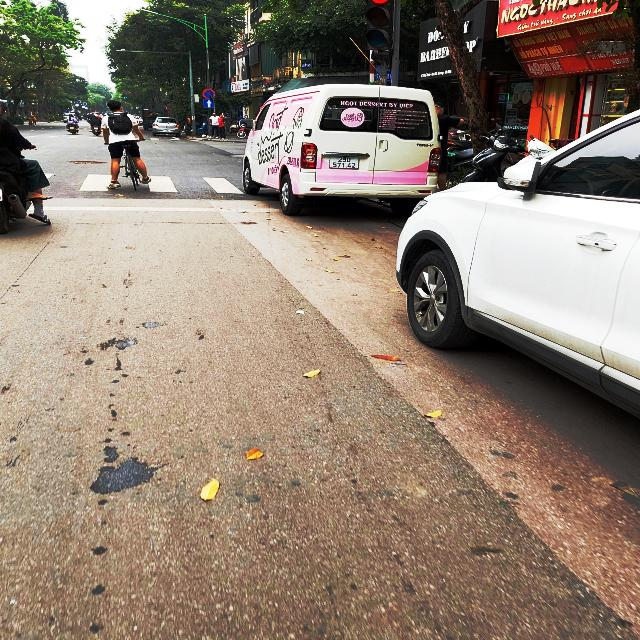license_plate: (329, 156, 361, 171)
